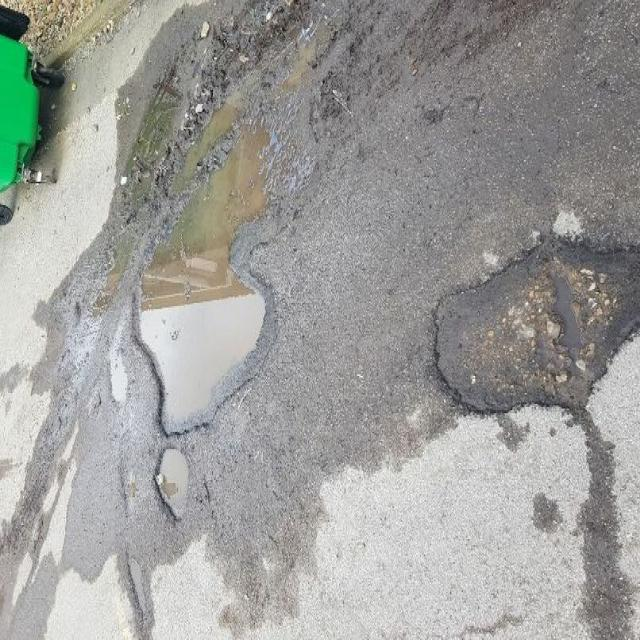pothole: (126, 78, 294, 442), (426, 225, 640, 420), (147, 446, 196, 524)
